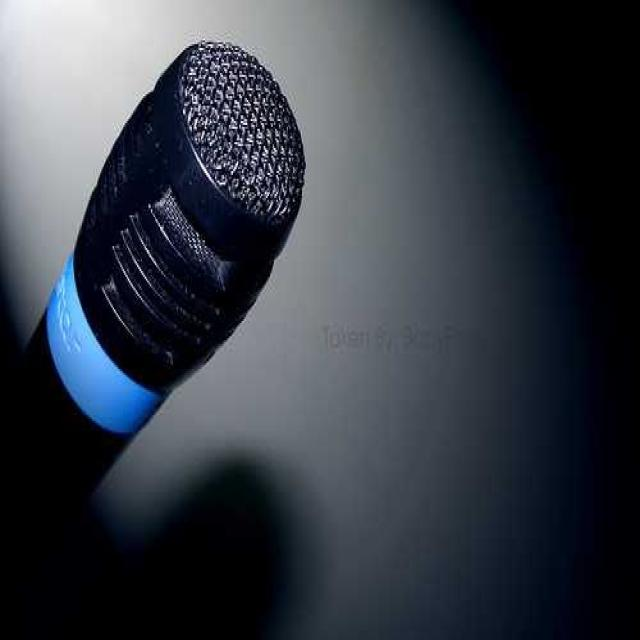microphone: (36, 41, 305, 452)
